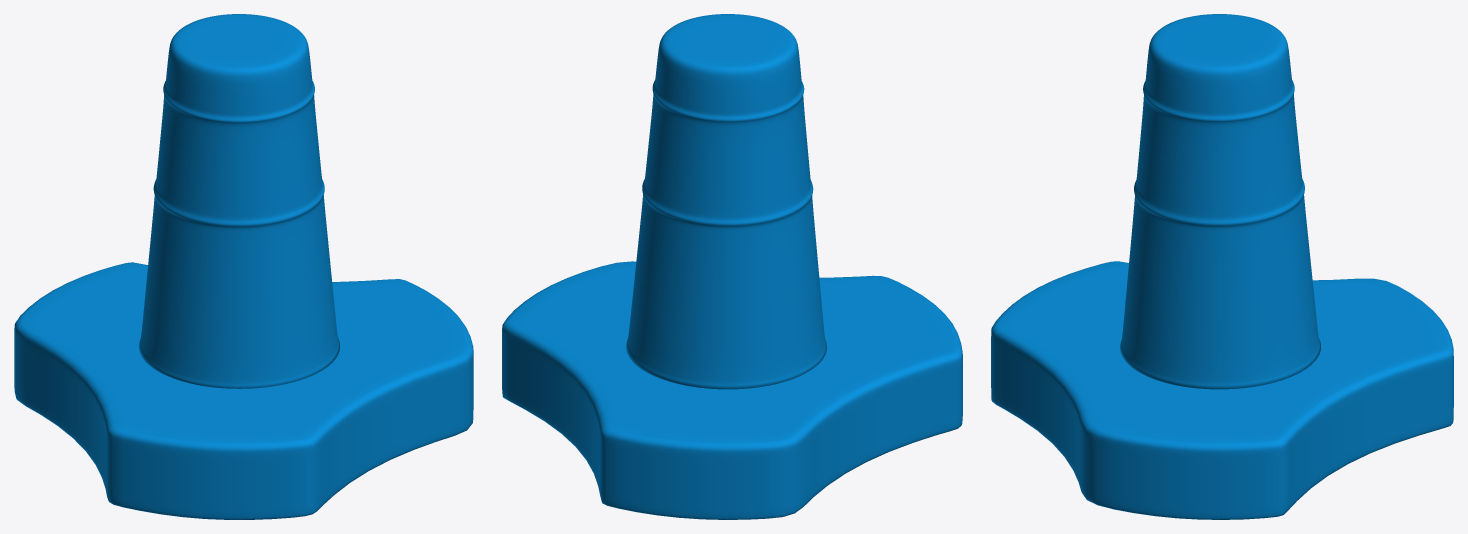
File: stopper.glb
3 views of the same model, side by side, from view 1: azimuth 30°, elevation 25°; view 2: azimuth 150°, elevation 25°; view 3: azimuth 270°, elevation 25° (orthographic).
Visible parts, largest first — view 1: stopper; view 2: stopper; view 3: stopper.
Part boxes in pixels (<box>): stopper: <box>14,14,473,519</box>; stopper: <box>502,14,962,519</box>; stopper: <box>991,14,1453,519</box>.
Size of the model in its own units: 1.17 by 1.11 by 1.22.
